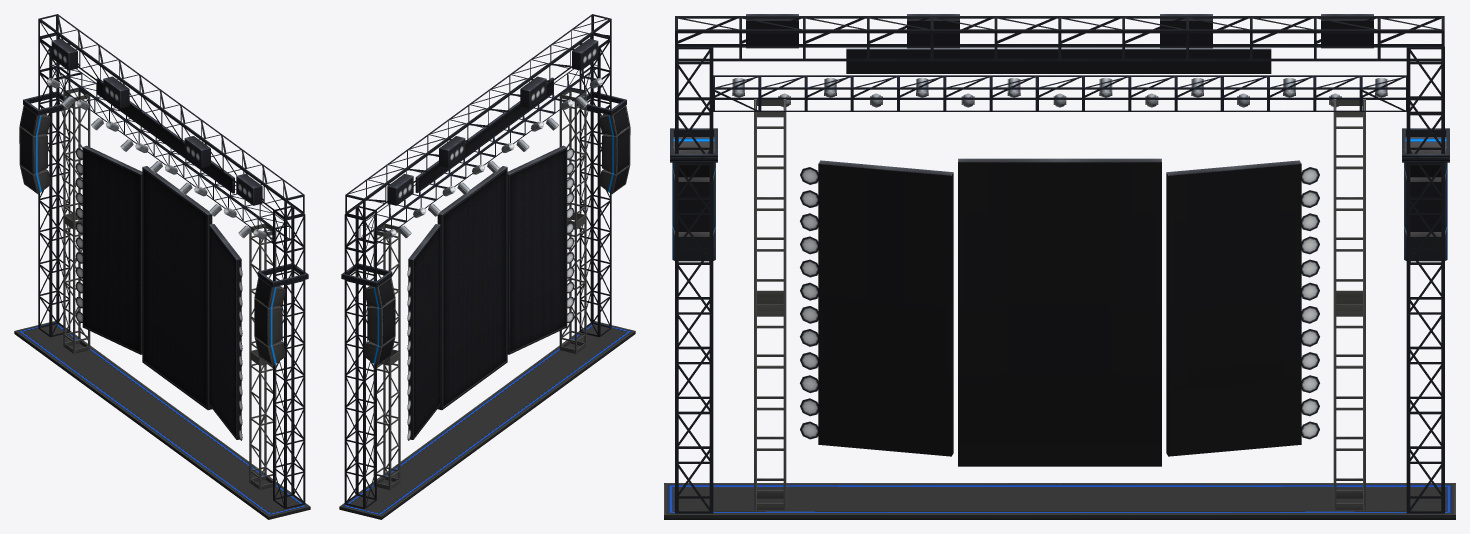
The model's file is my_ariussummer_01_screen_01.glb.
3 views of the same model, side by side, from view 1: azimuth 30°, elevation 25°; view 2: azimuth 150°, elevation 25°; view 3: azimuth 270°, elevation 25° (orthographic). The views are drawn at different scales.
Parts seen in each view (by area): view 1: my_ariussummer_01_screen_01; view 2: my_ariussummer_01_screen_01; view 3: my_ariussummer_01_screen_01.
Part boxes in pixels (bbox=[...]): my_ariussummer_01_screen_01: bbox=[14, 14, 310, 519]; my_ariussummer_01_screen_01: bbox=[339, 14, 635, 519]; my_ariussummer_01_screen_01: bbox=[664, 14, 1455, 519].
Bounding box in the file's own units: 0.00569 × 0.0404 × 0.0595.
Materials: 1 (1 with a texture image).
